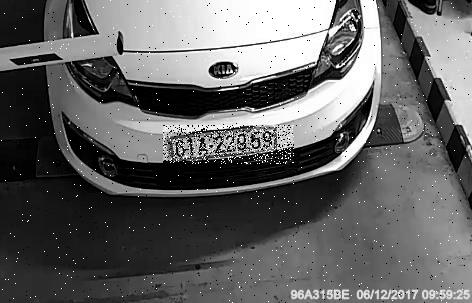License-plate: (165, 127, 296, 166)
